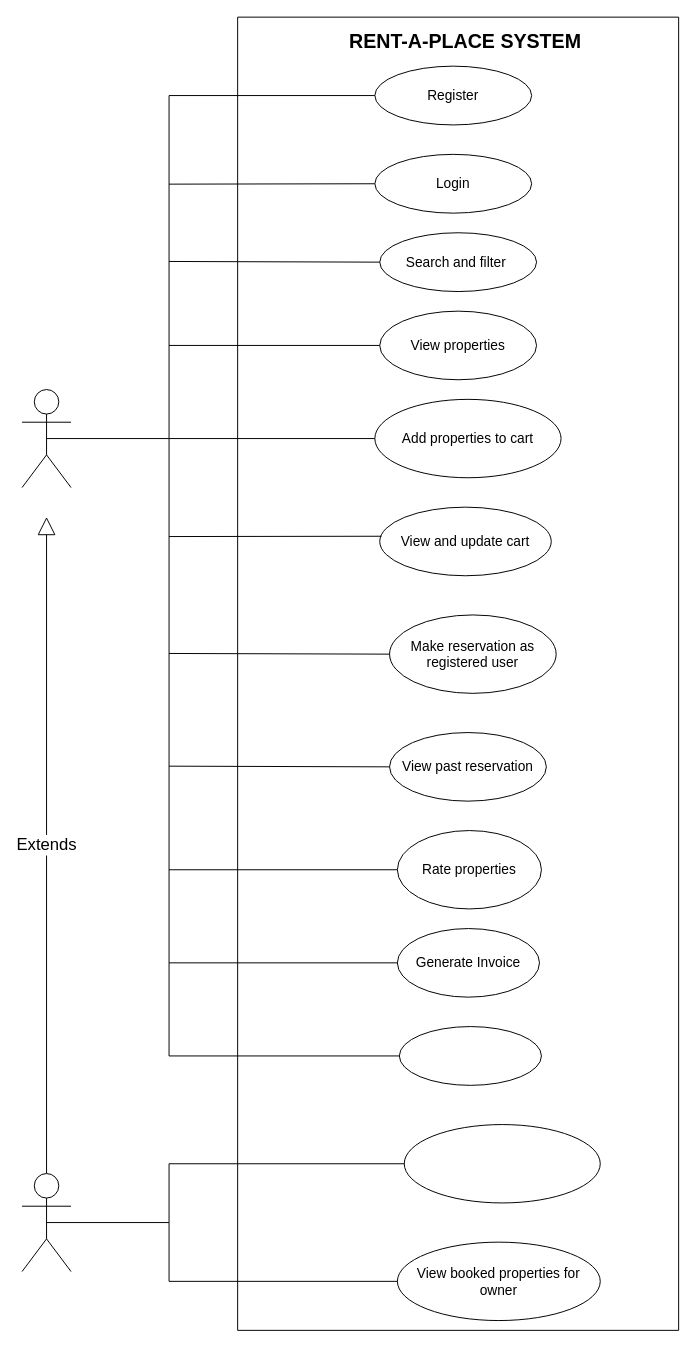
The diagram is 696 pixels wide and 1348 high, and some of its shapes have lost their labels. The centre of each missing label's shape, as x and y in pixels:
Logout: the point at 469,1055
OWNER: the point at 46,1222
RENTER: the point at 46,438
Upload/Host properties: the point at 501,1163
